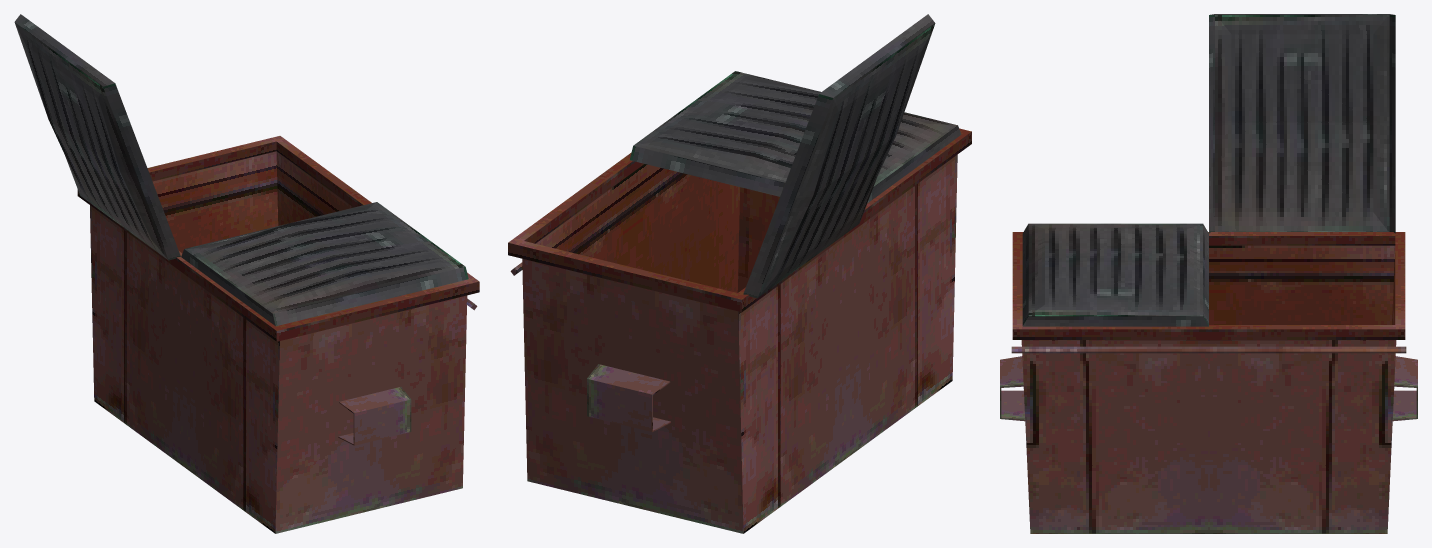
Rendered from dumpster_empty_lid_open_red.glb.
3 renders of one model, left to right at view 1: azimuth 30°, elevation 25°; view 2: azimuth 150°, elevation 25°; view 3: azimuth 270°, elevation 25°, orthographic. The views are drawn at different scales.
Parts seen in each view (by area): view 1: dumpster_empty_lid_open_red; view 2: dumpster_empty_lid_open_red; view 3: dumpster_empty_lid_open_red.
Part boxes in pixels (x1=…): dumpster_empty_lid_open_red: x1=14, y1=14, x2=479, y2=533; dumpster_empty_lid_open_red: x1=508, y1=14, x2=971, y2=533; dumpster_empty_lid_open_red: x1=1000, y1=14, x2=1417, y2=533.
Size of the model in its own units: 2.74 by 3.84 by 3.67.
1 material, 1 textured.
